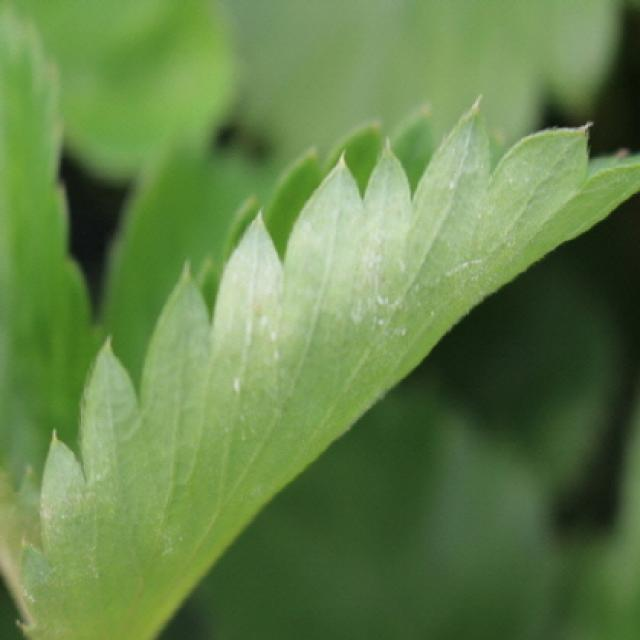powdery_mildew_leaf: (0, 92, 638, 638)
